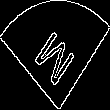M_SW: (30, 20, 80, 90)
